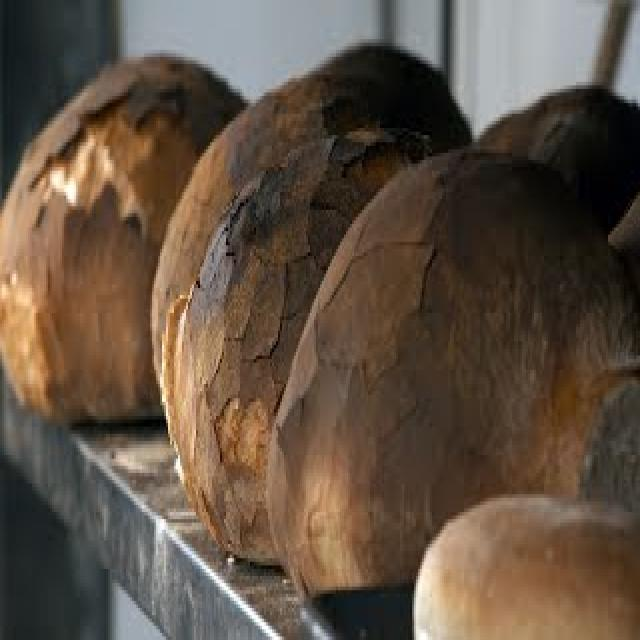Maltese-Bread: (270, 146, 638, 636), (162, 124, 436, 558), (152, 46, 470, 373), (0, 53, 244, 416)
